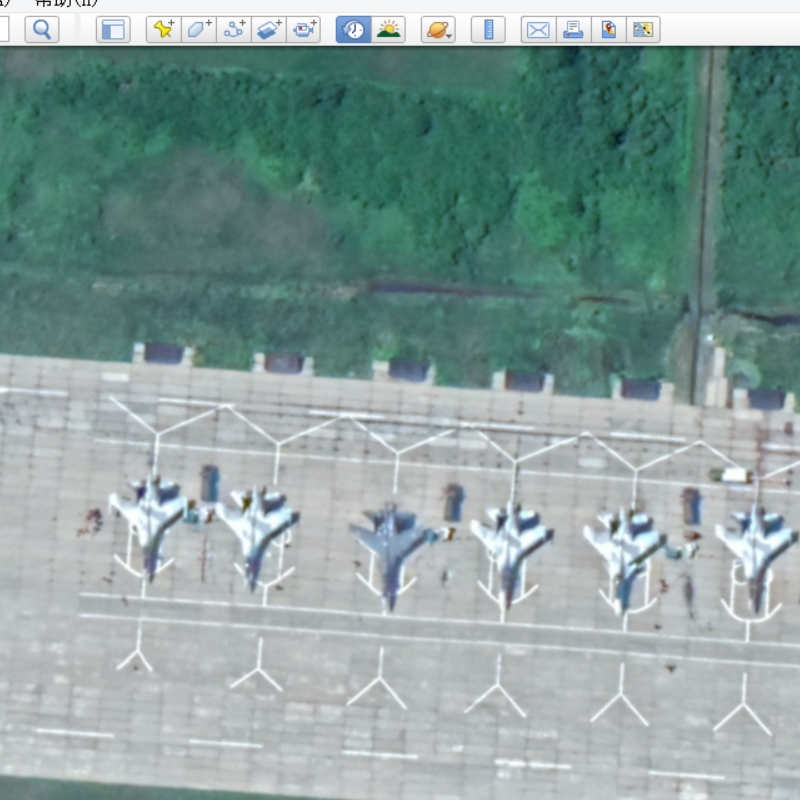A1: (105, 472, 190, 585), (467, 498, 549, 615), (712, 499, 795, 613), (346, 501, 428, 614), (212, 483, 297, 592)
A19: (580, 505, 664, 620)
